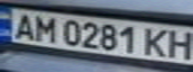0: (57, 17, 81, 47)
1: (118, 24, 142, 54)
2: (78, 19, 103, 51)
8: (100, 21, 121, 52)
A: (6, 10, 39, 40)
H: (163, 28, 193, 60)
K: (139, 25, 172, 58)
M: (30, 12, 60, 43)
